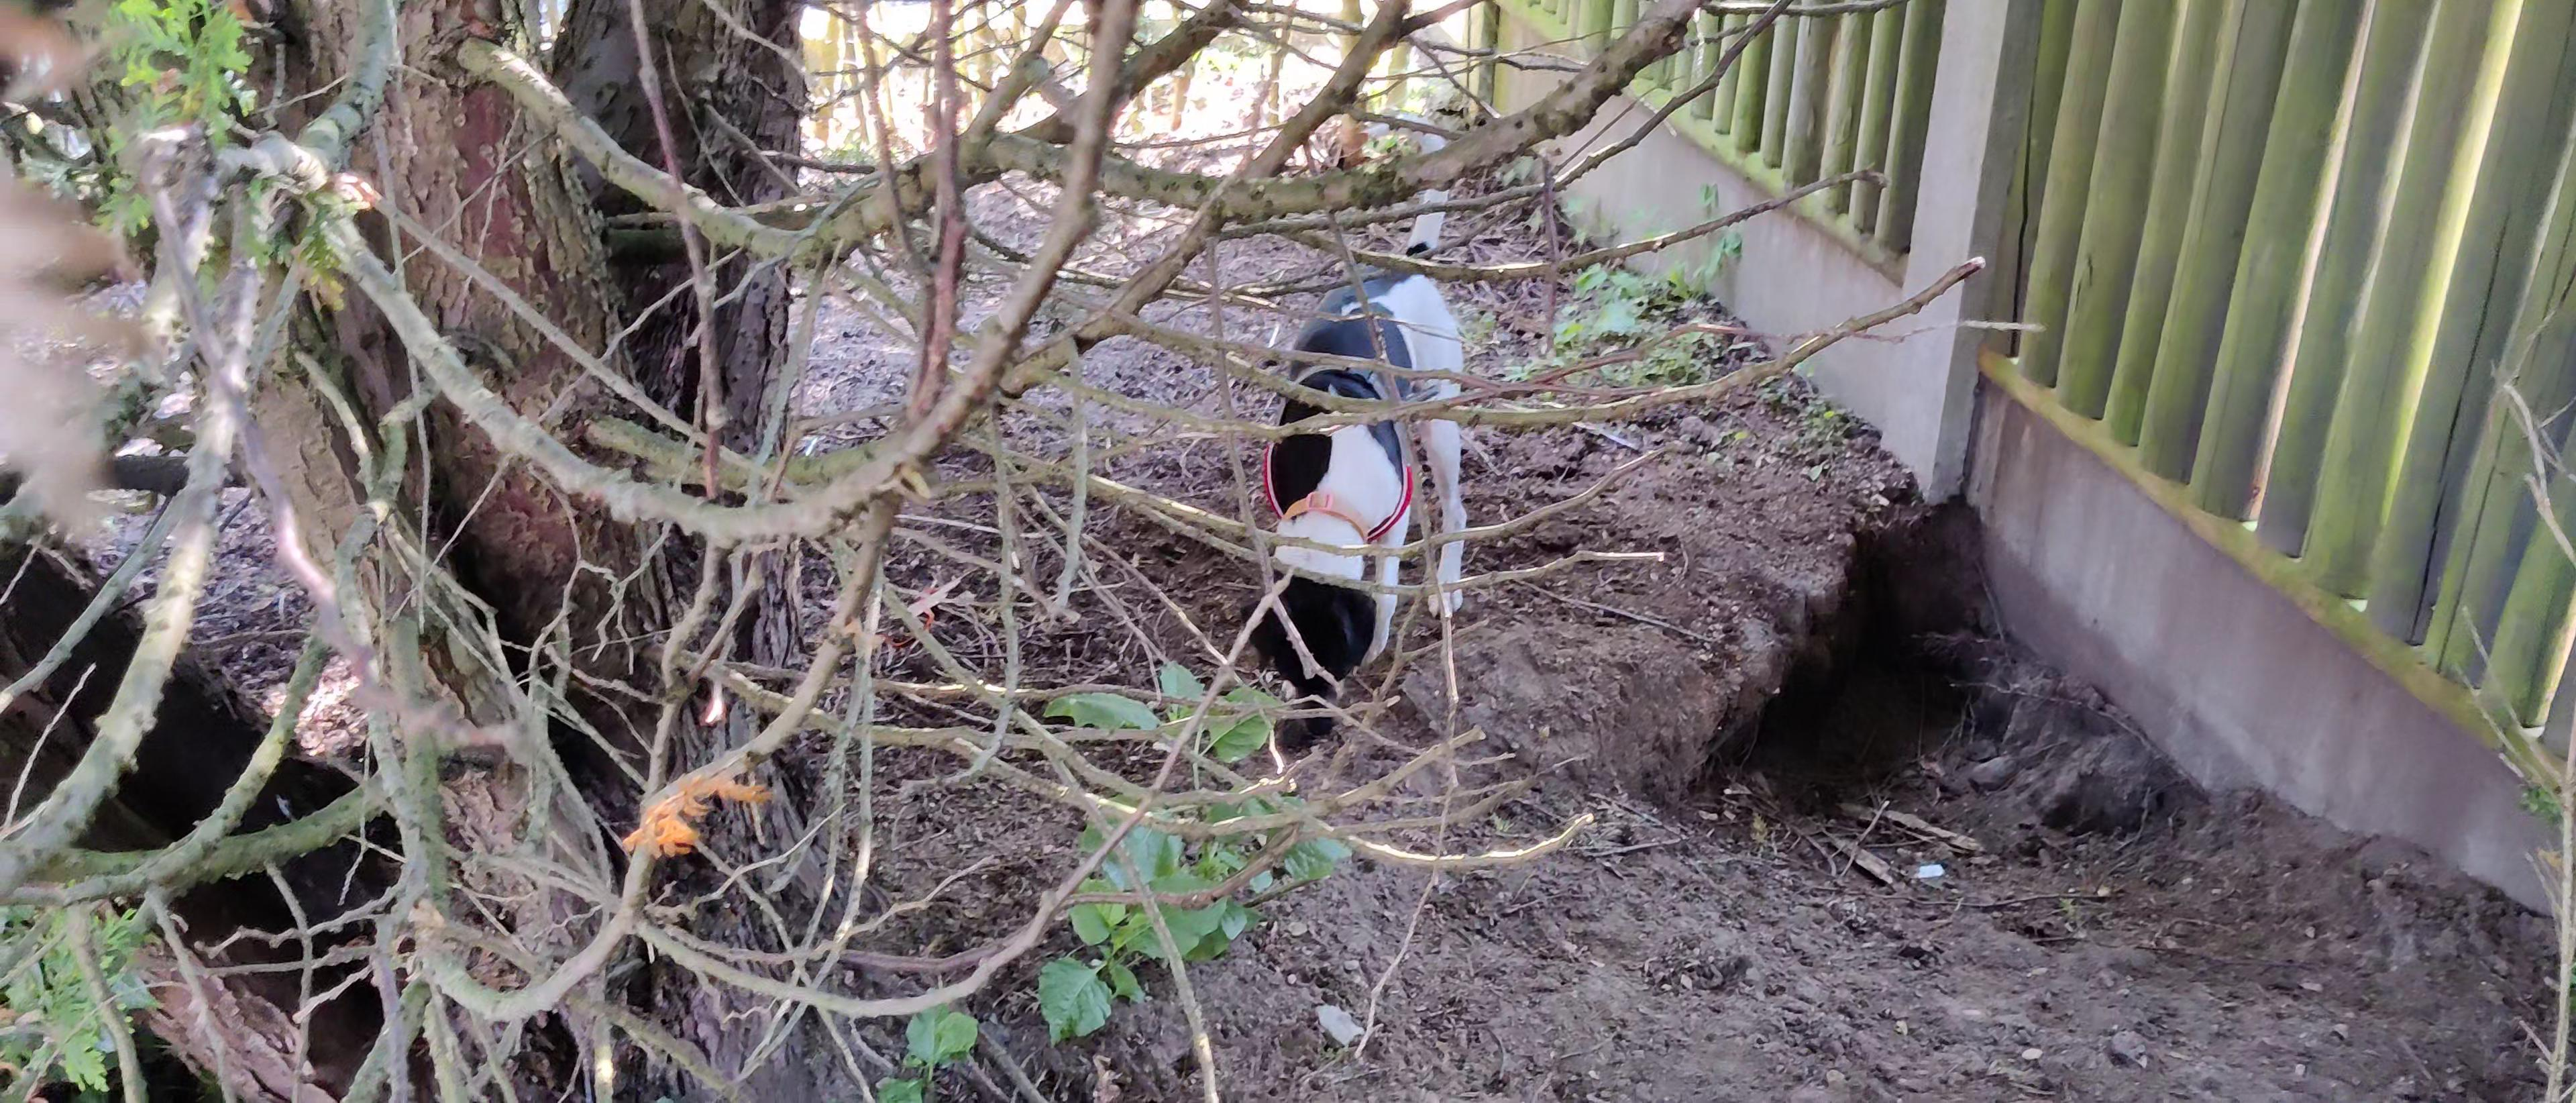Dog: (1222, 95, 1506, 756)
